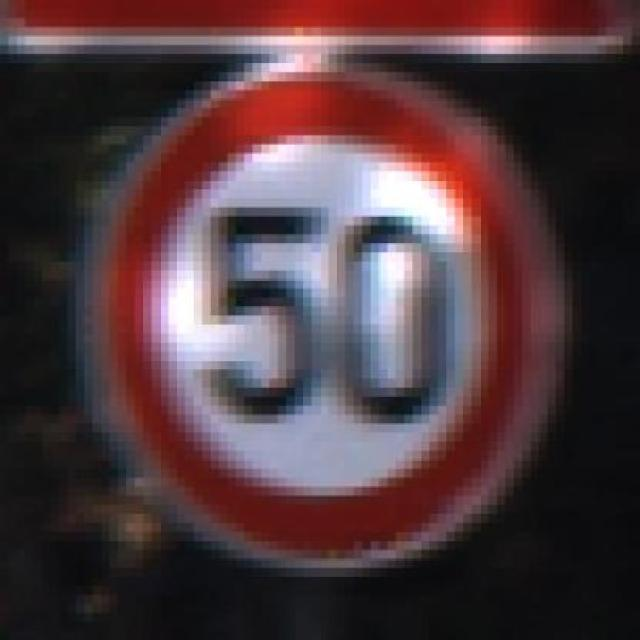Speed limit 50: (86, 66, 573, 572)
